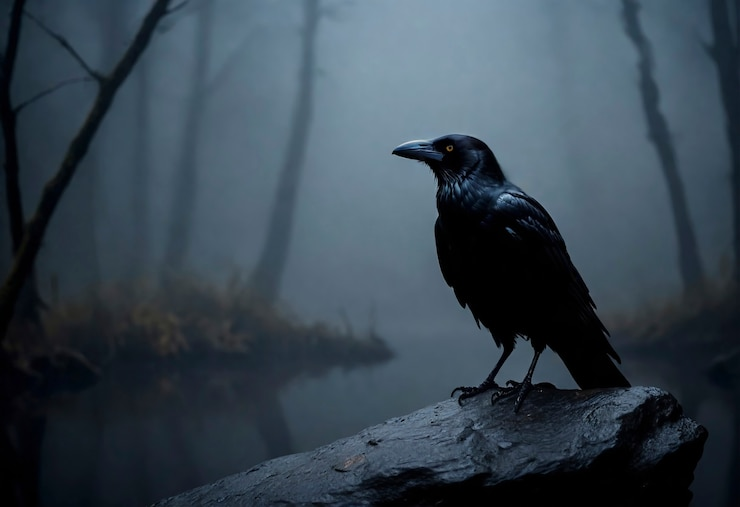ворон: (367, 119, 668, 414)
